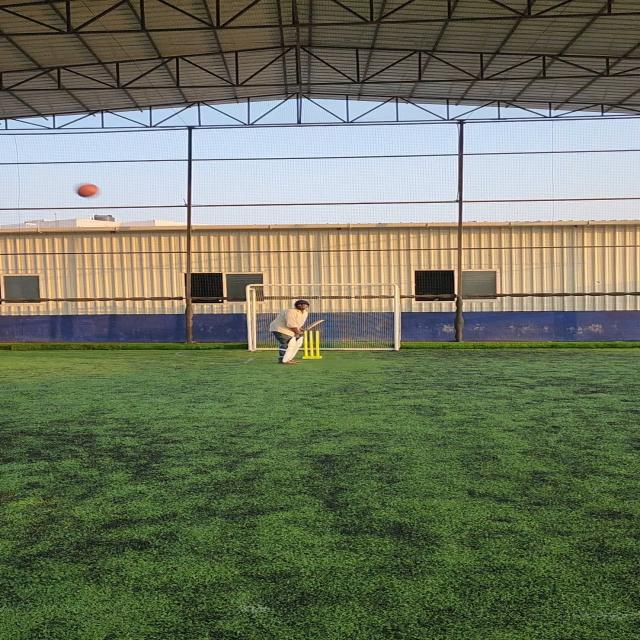ball: (74, 180, 105, 200)
stump: (303, 330, 323, 360)
